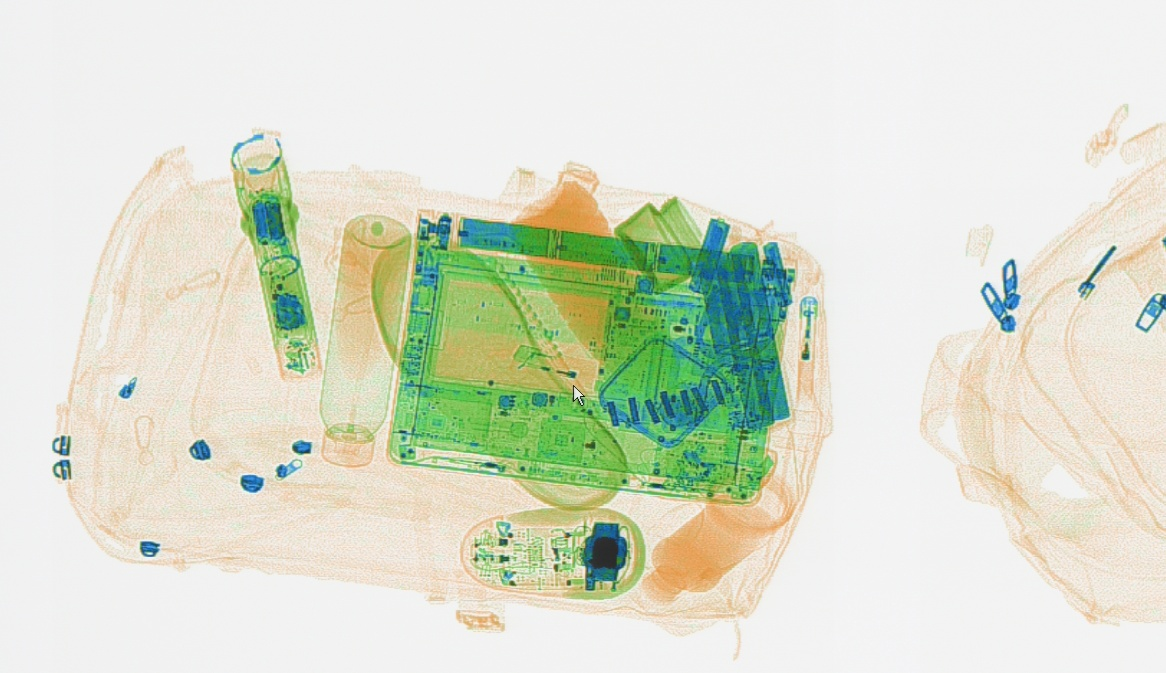lighter: (508, 341, 599, 387), (796, 290, 820, 407)
powerbank: (696, 234, 797, 440)
pressure: (317, 215, 412, 470)
